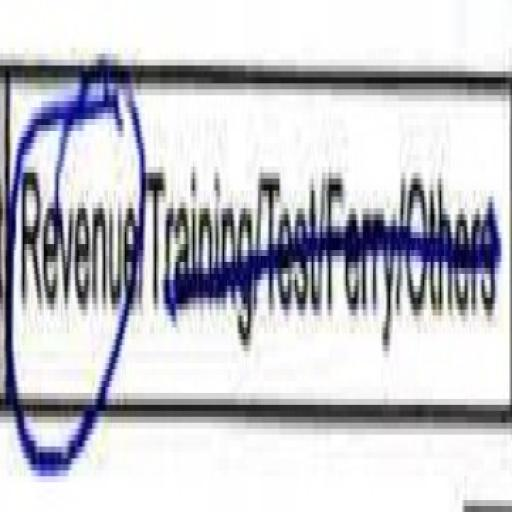check: (0, 0, 142, 500)
